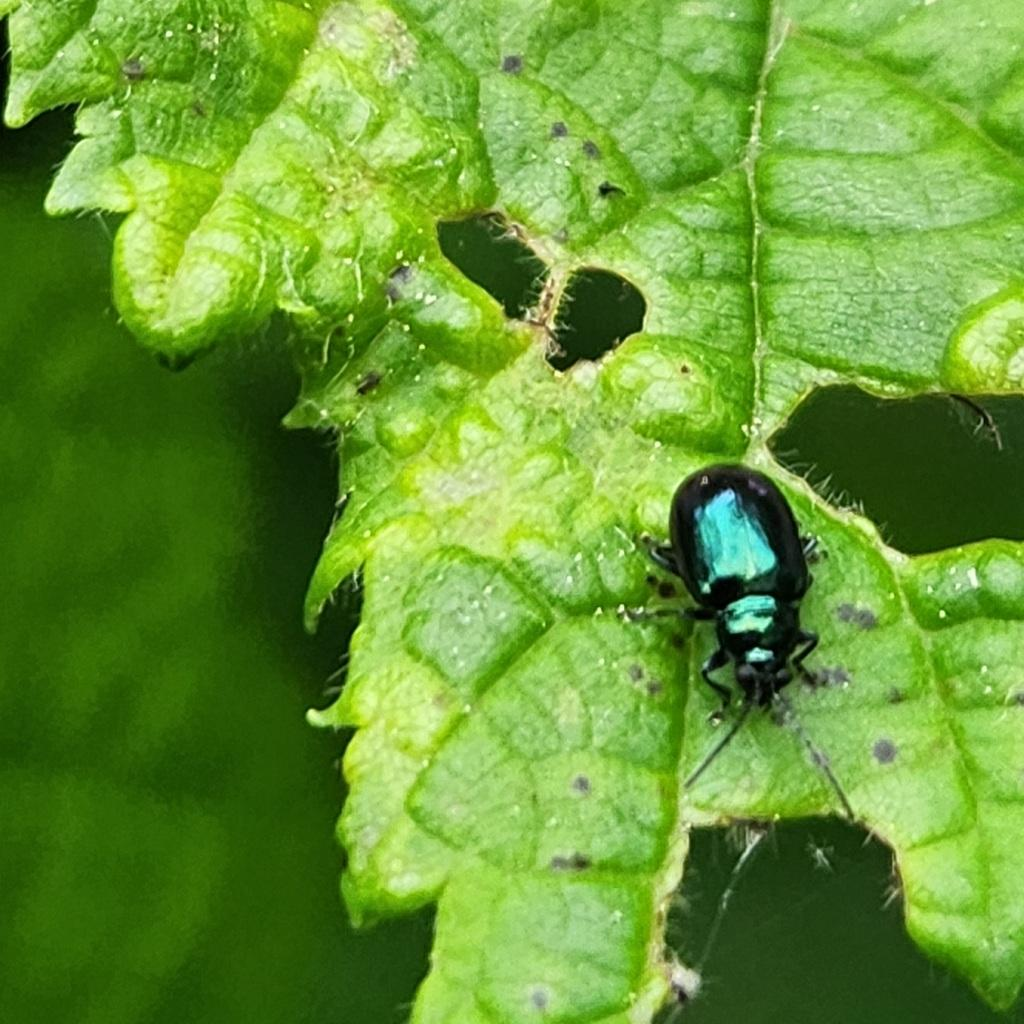flea_beetle: (602, 436, 891, 830)
